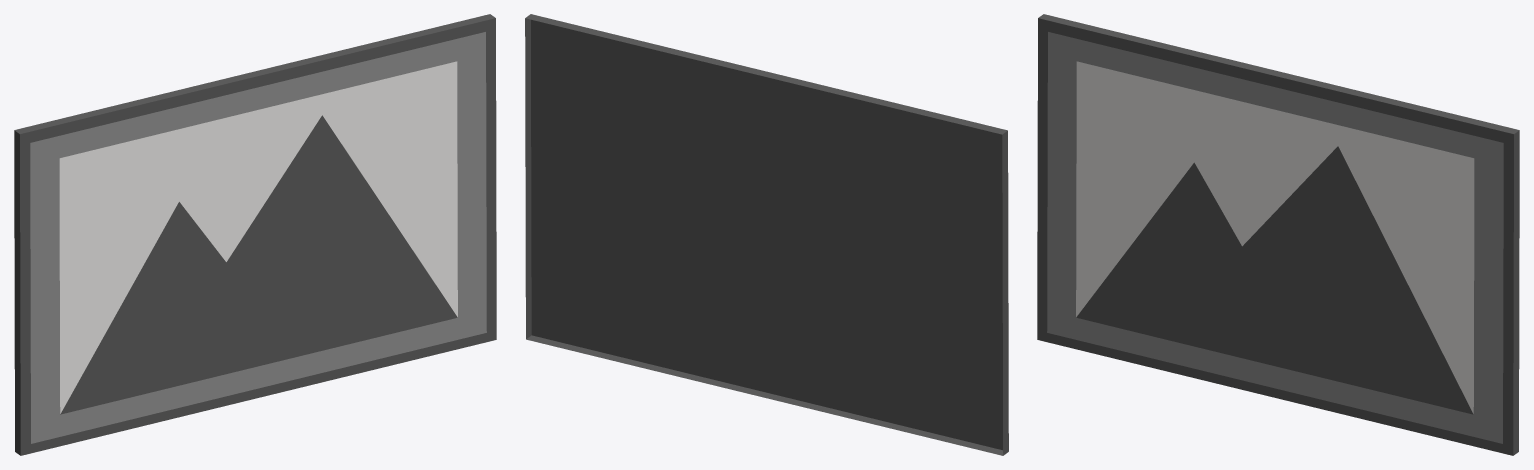
File: Picture_20.fbx
3 views of the same model, side by side, from view 1: azimuth 30°, elevation 25°; view 2: azimuth 150°, elevation 25°; view 3: azimuth 330°, elevation 25° (orthographic).
Parts seen in each view (by area): view 1: Picture_20; view 2: Picture_20; view 3: Picture_20.
Part boxes in pixels (x1,y1,x2,y2): Picture_20: [14, 14, 496, 455]; Picture_20: [525, 14, 1008, 455]; Picture_20: [1037, 14, 1519, 455].
Size of the model in its own units: 210 by 5.5 by 135.
